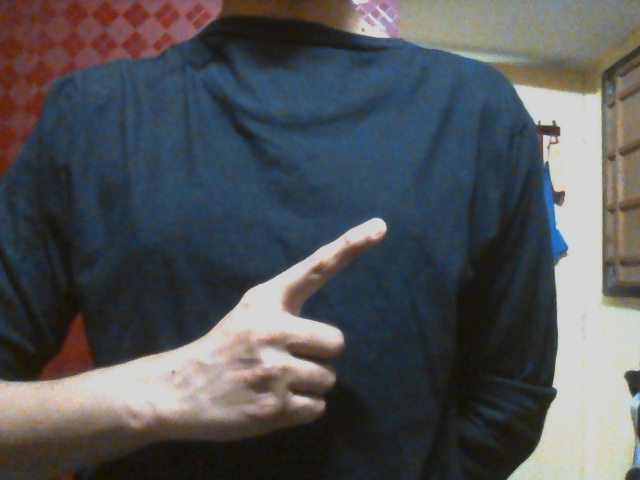I: (187, 215, 386, 443)
